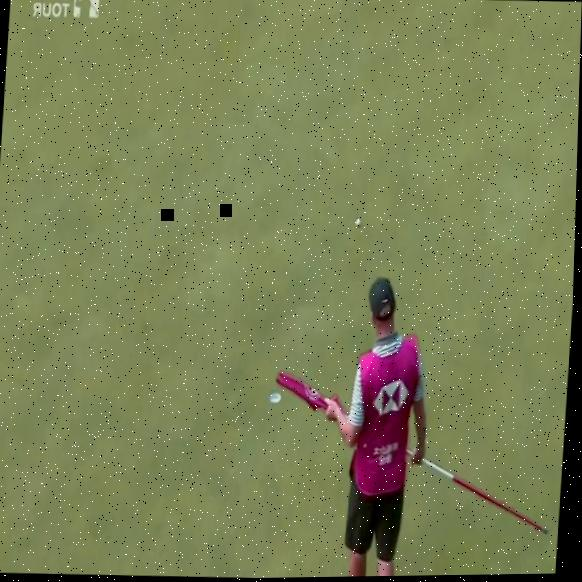GolfBall: (352, 214, 365, 234)
